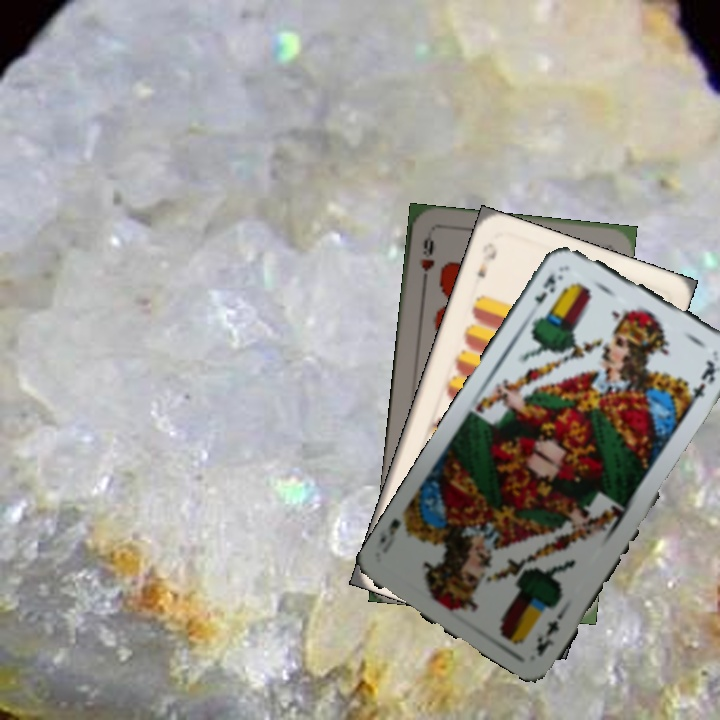E9: (472, 238, 500, 281)
EK: (532, 604, 569, 659), (531, 269, 566, 307)
H9: (416, 230, 437, 289)
